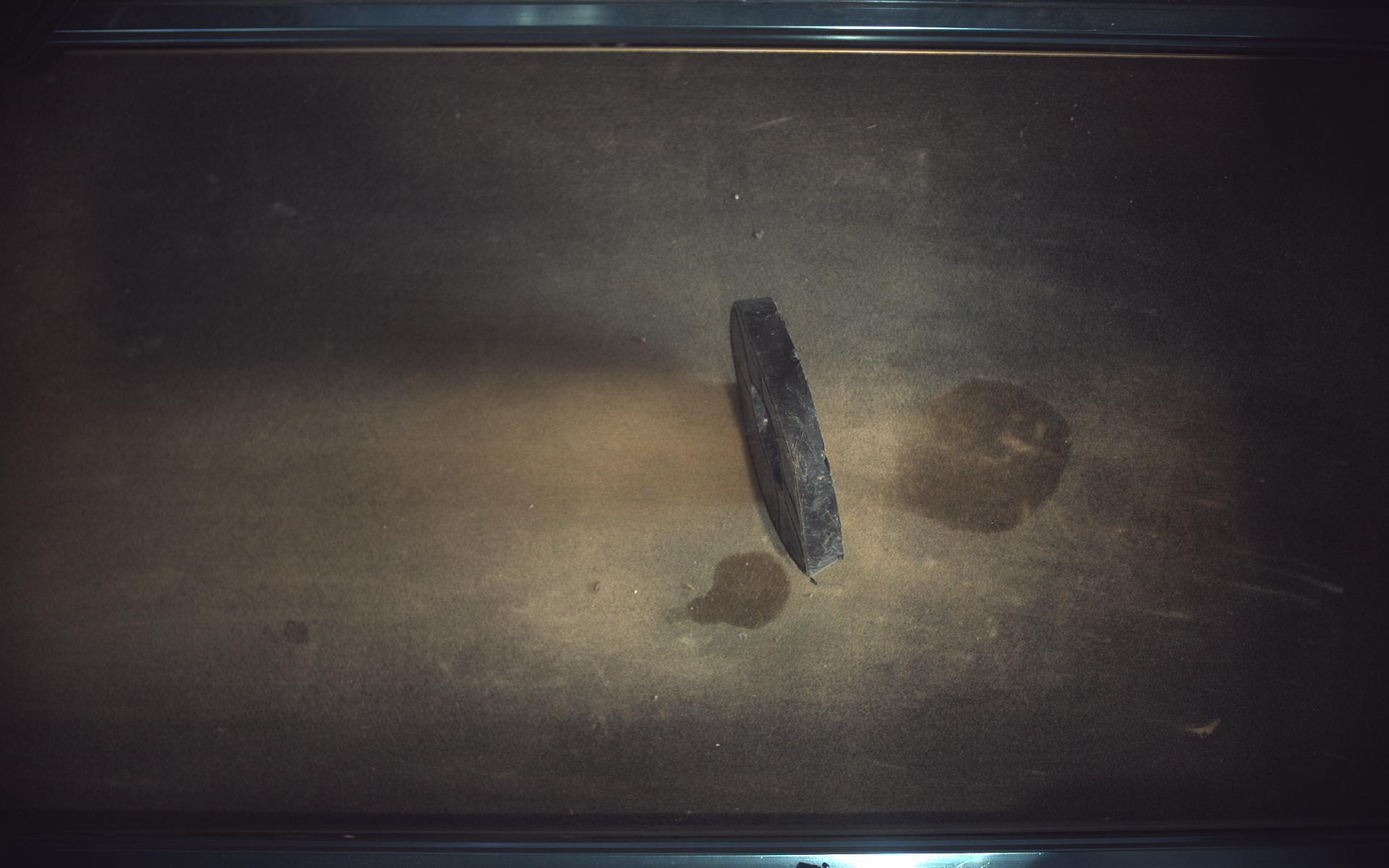plastic: (732, 297, 846, 578)
